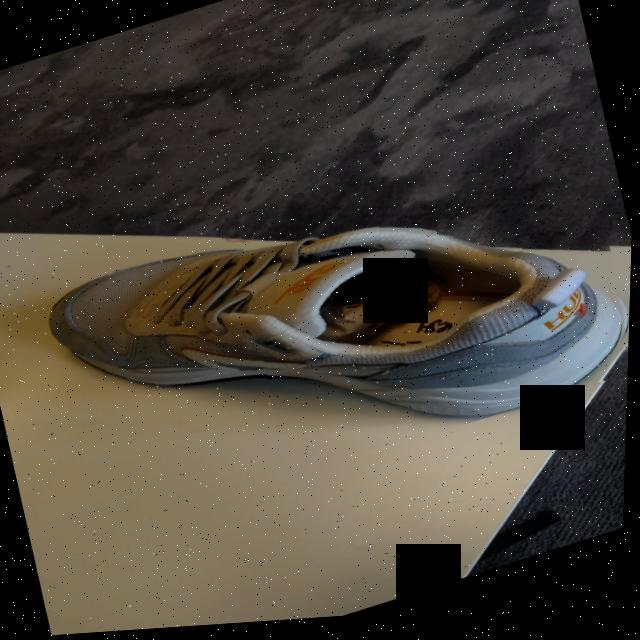shoe: (37, 127, 636, 543)
